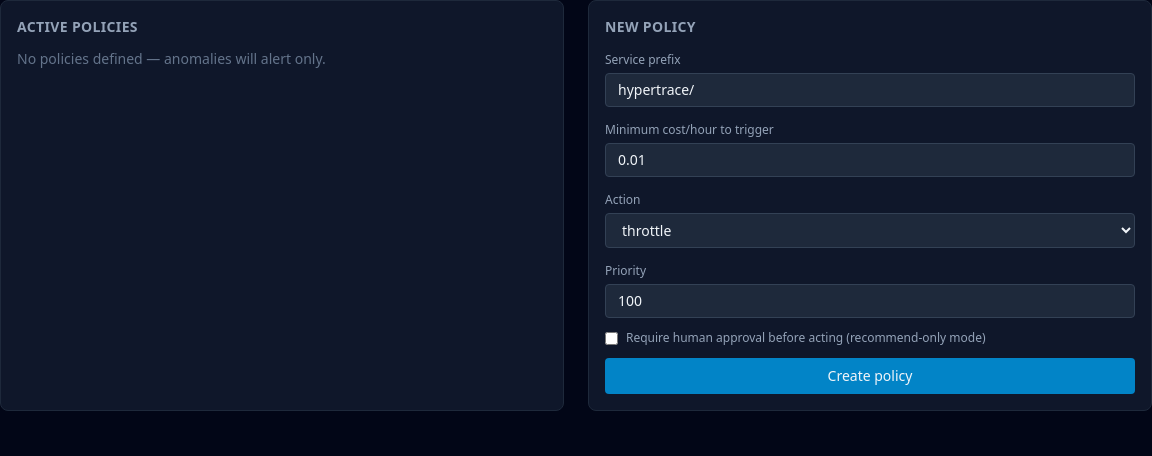
it: creating a policy › shows the error when the API refuses
Click the button "Create policy" at (870, 376), box [605,358,1135,394]
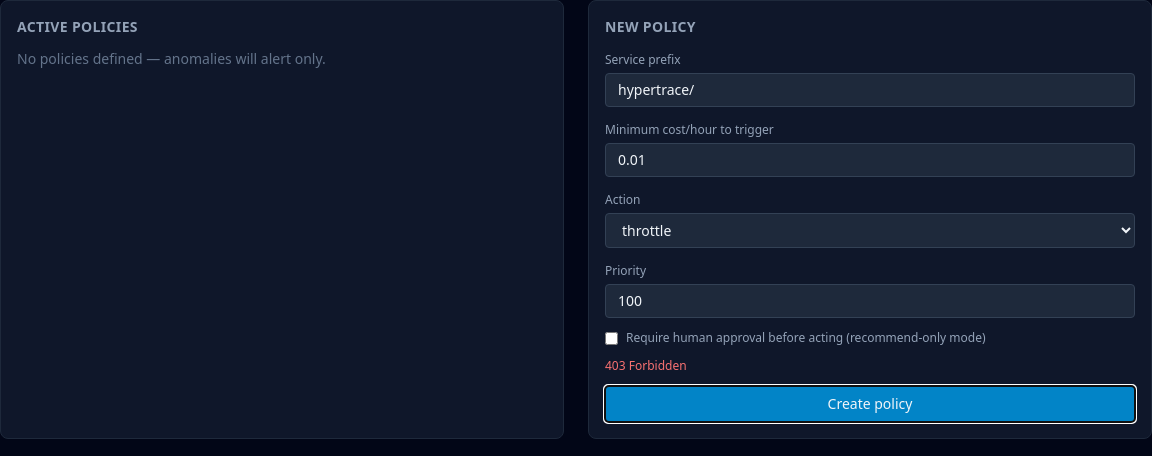
Result: the text "403 Forbidden" is shown at [605,357,687,374]
